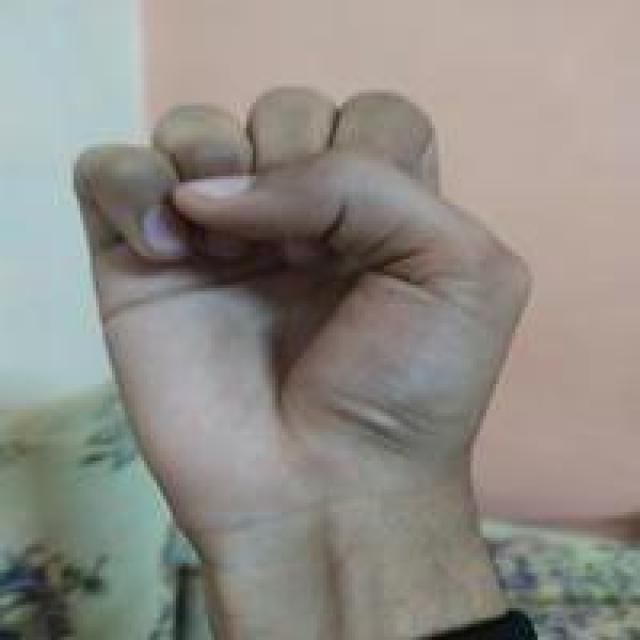E: (68, 75, 534, 533)
